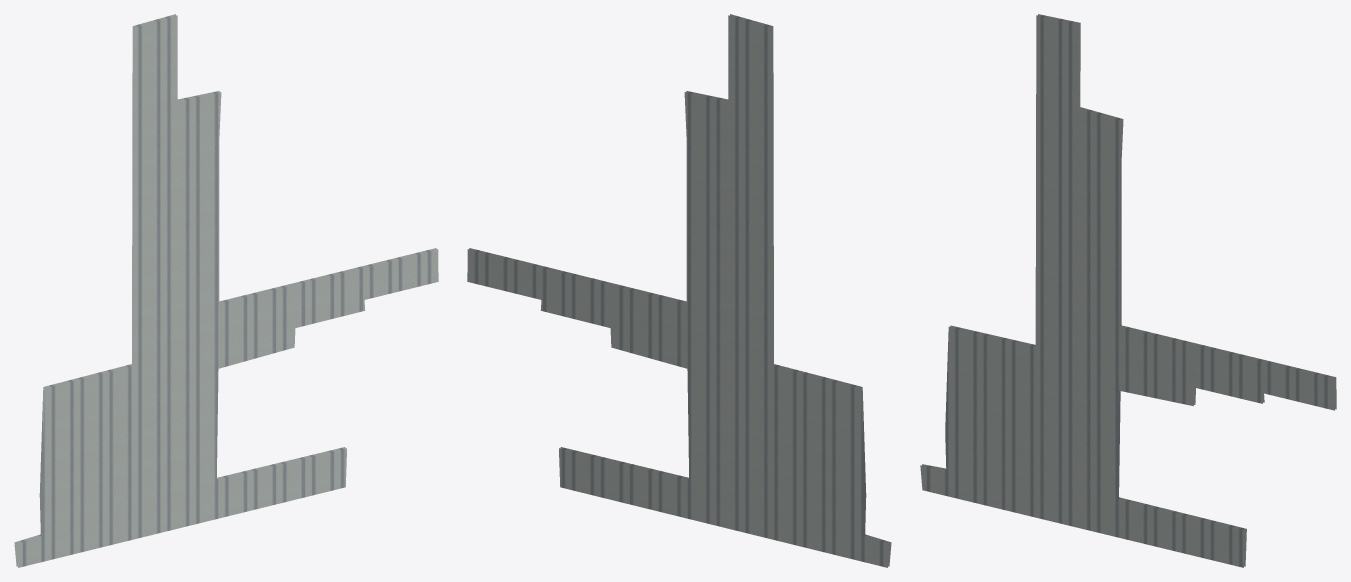
File: floor_72.obj
The picture shows the model from 3 angles, left to right: view 1: azimuth 30°, elevation 25°; view 2: azimuth 150°, elevation 25°; view 3: azimuth 330°, elevation 25°; orthographic projection.
Visible parts, largest first — view 1: floor_72; view 2: floor_72; view 3: floor_72.
Part boxes in pixels (x1,y1,x2,y2): floor_72: [14, 14, 438, 567]; floor_72: [467, 14, 891, 567]; floor_72: [920, 14, 1336, 567].
Size of the model in its own units: 14.61 by 16.97 by 0.1.
Materials: 1 (1 with a texture image).
